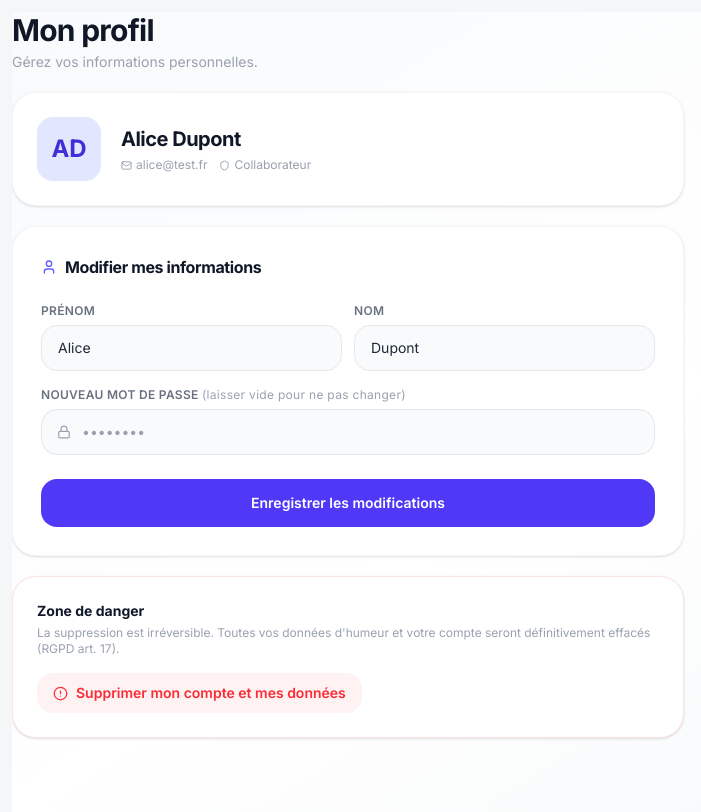
Test: Profile — Modification du profil › affiche le message de succès après modification
Click the button "Enregistrer les modifications".
click(348, 503)  # box [41,479,655,527]
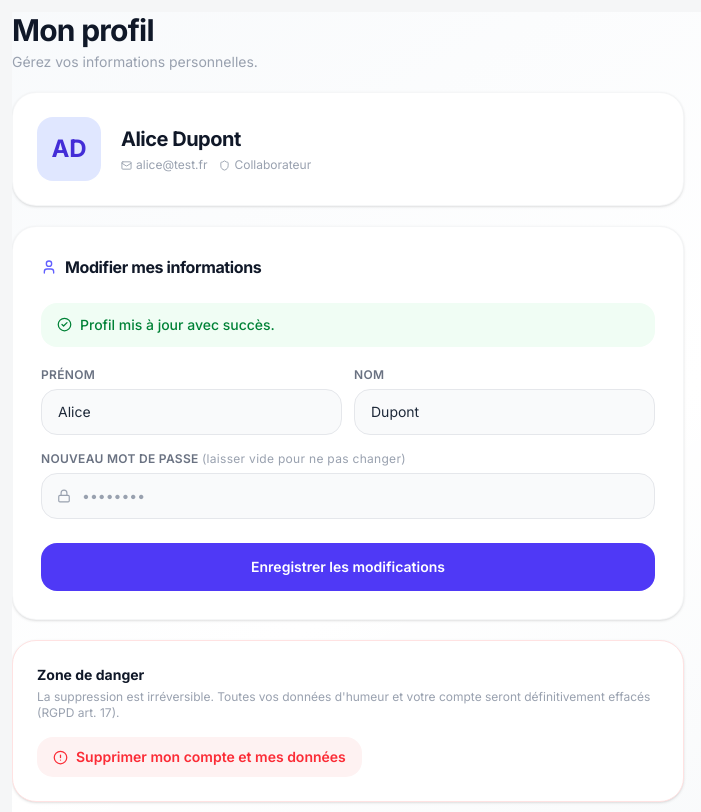
Now the text "Profil mis à jour avec succès." is shown, box [41,303,655,347]
